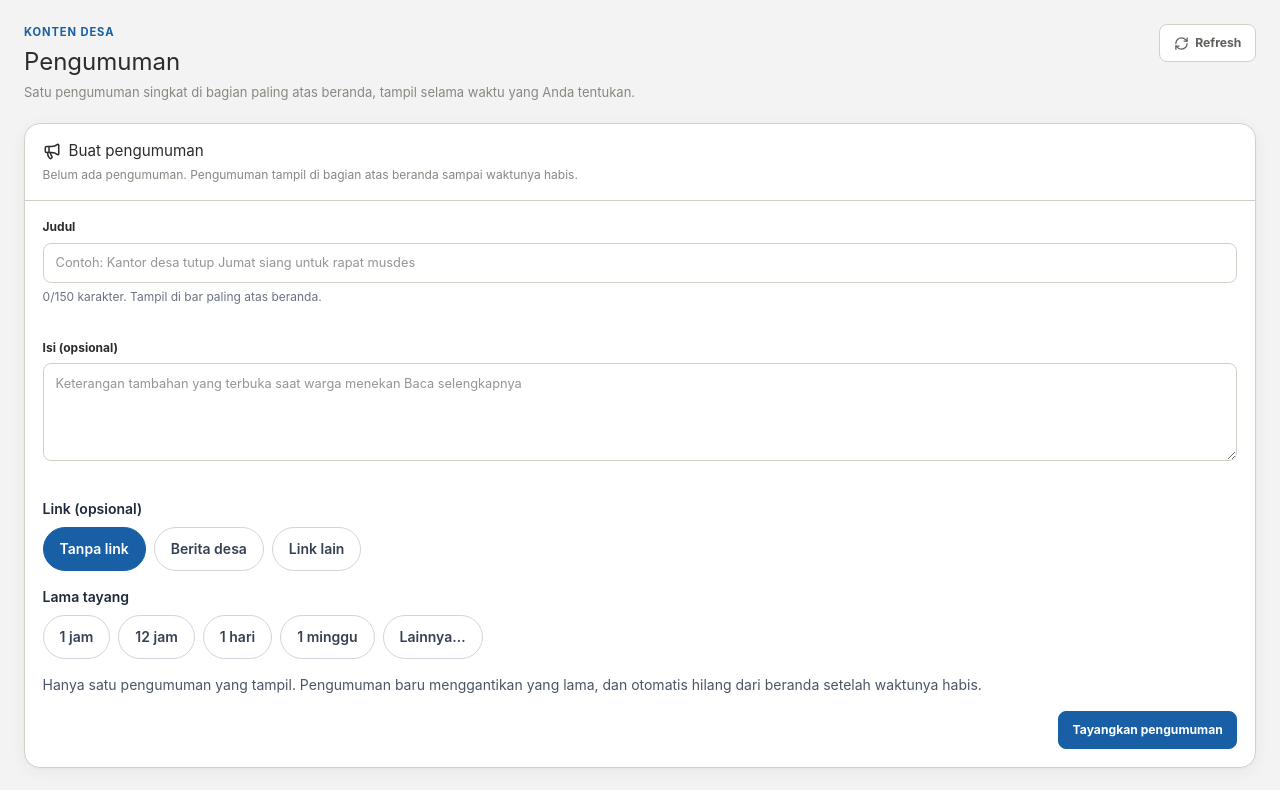
it: KelolaPengumumanPage › requires a duration before publishing
Type "Tanpa durasi" into the field labelled "Judul" at (640, 263), box [43,243,1237,283]
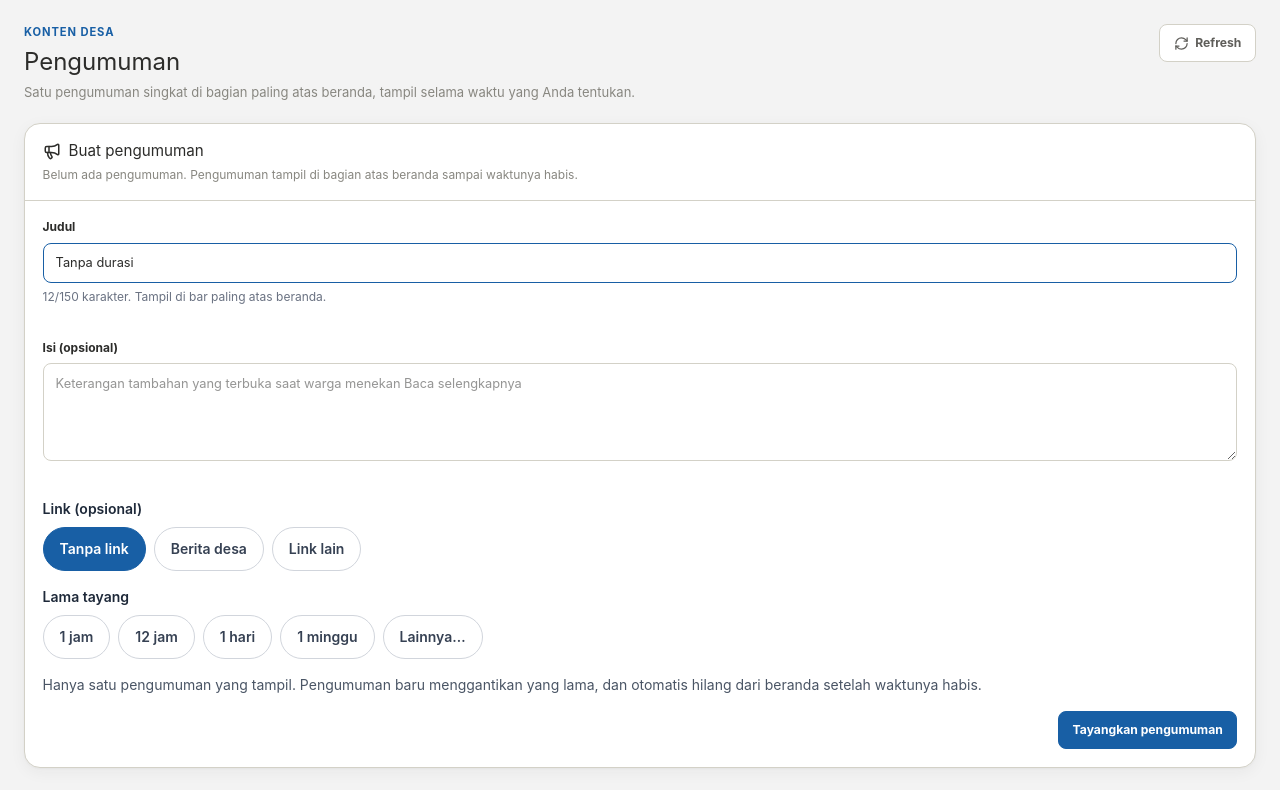
Click the button "Tayangkan pengumuman" at (1148, 730), box [1058,711,1237,749]
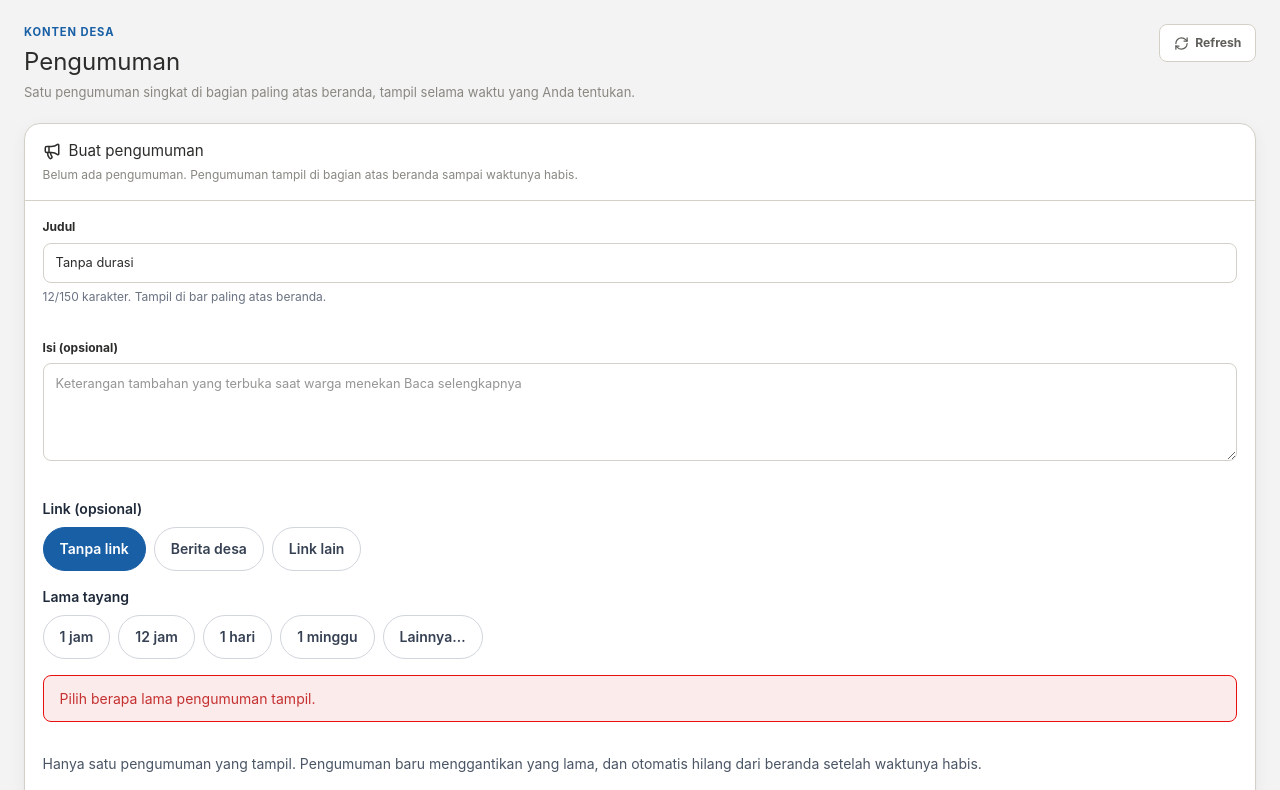
Now the message reads "Pilih berapa lama pengumuman tampil.", box [60,690,316,707]
